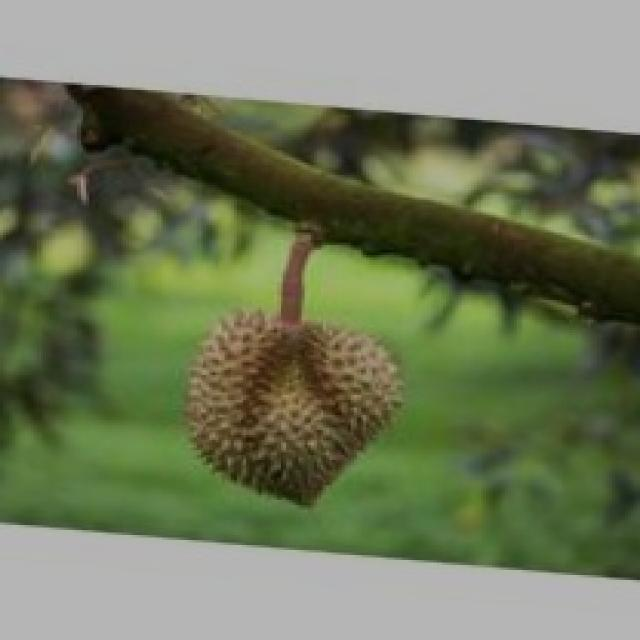fruit: (160, 283, 428, 525)
